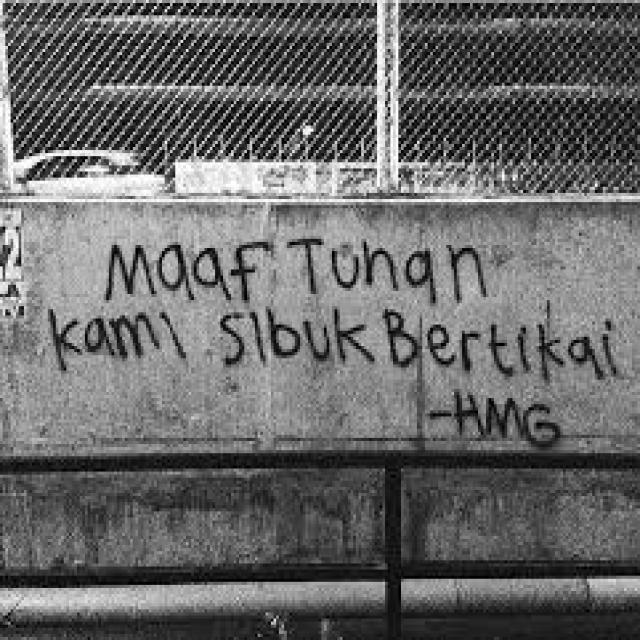-: (52, 236, 620, 450)
